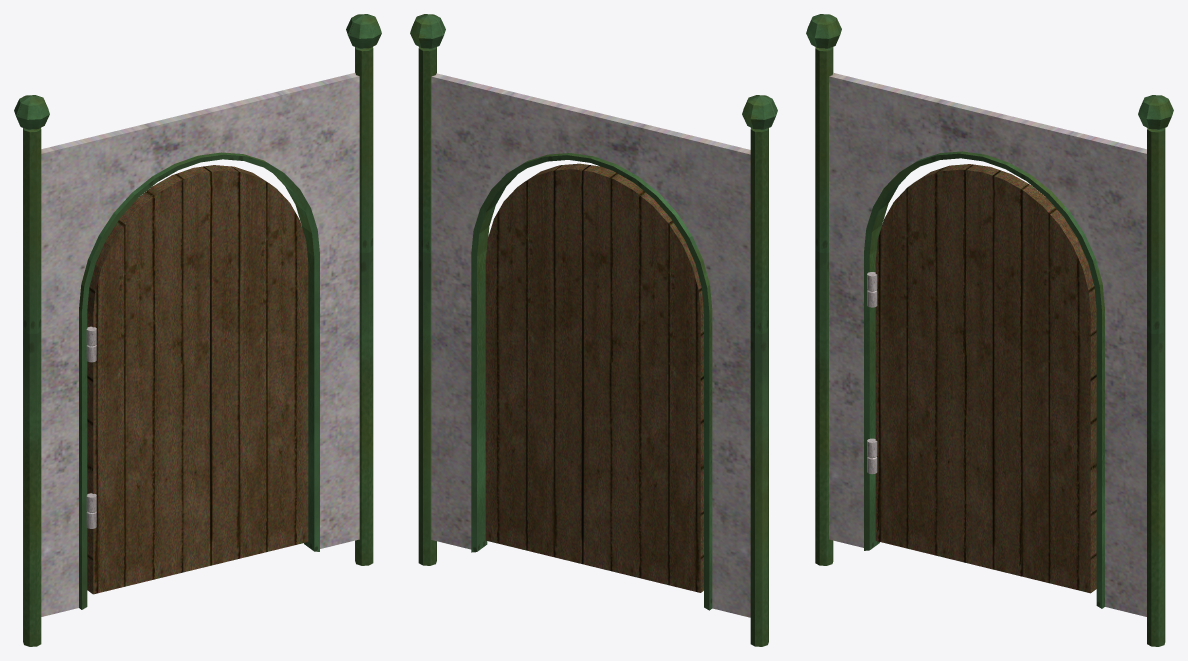
File: WallDoor.fbx
The picture shows the model from 3 angles, left to right: view 1: azimuth 30°, elevation 25°; view 2: azimuth 150°, elevation 25°; view 3: azimuth 330°, elevation 25°; orthographic projection.
Visible parts, largest first — view 1: WallSegment; view 2: WallSegment; view 3: WallSegment.
Part boxes in pixels (x1,y1,x2,y2): WallSegment: (14, 14, 381, 646); WallSegment: (410, 14, 777, 646); WallSegment: (806, 14, 1173, 646).
Bounding box in the file's own units: 222 × 319 × 19.69.
